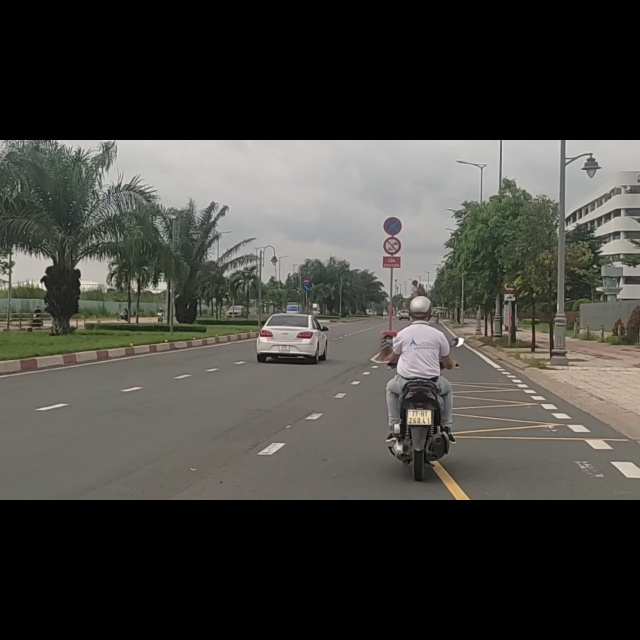bien_cam: (381, 134, 403, 171), (383, 171, 402, 205)
